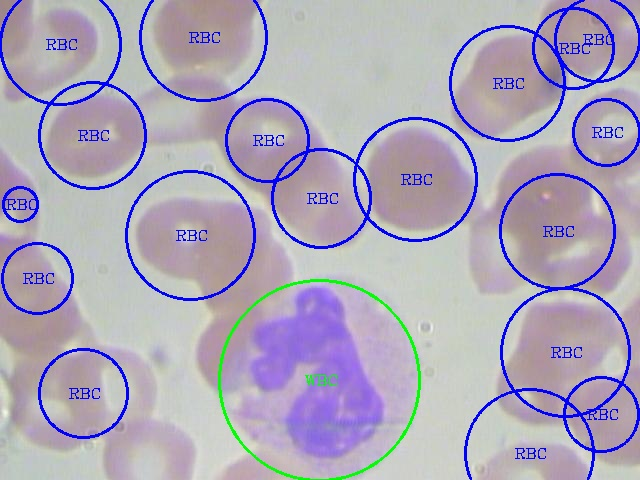RBC: (358, 121, 477, 232), (444, 26, 547, 140), (127, 189, 247, 282), (0, 241, 96, 354), (37, 87, 151, 180), (2, 351, 102, 454), (1, 1, 103, 97), (56, 339, 163, 429), (513, 292, 619, 382), (460, 199, 554, 299), (221, 96, 319, 187), (493, 146, 587, 236), (148, 0, 264, 72), (533, 0, 635, 78), (280, 157, 364, 247), (561, 369, 639, 465), (548, 215, 634, 302), (133, 72, 234, 144), (565, 84, 639, 181), (99, 412, 201, 478), (490, 354, 565, 427)
WBC: (223, 261, 424, 475)
